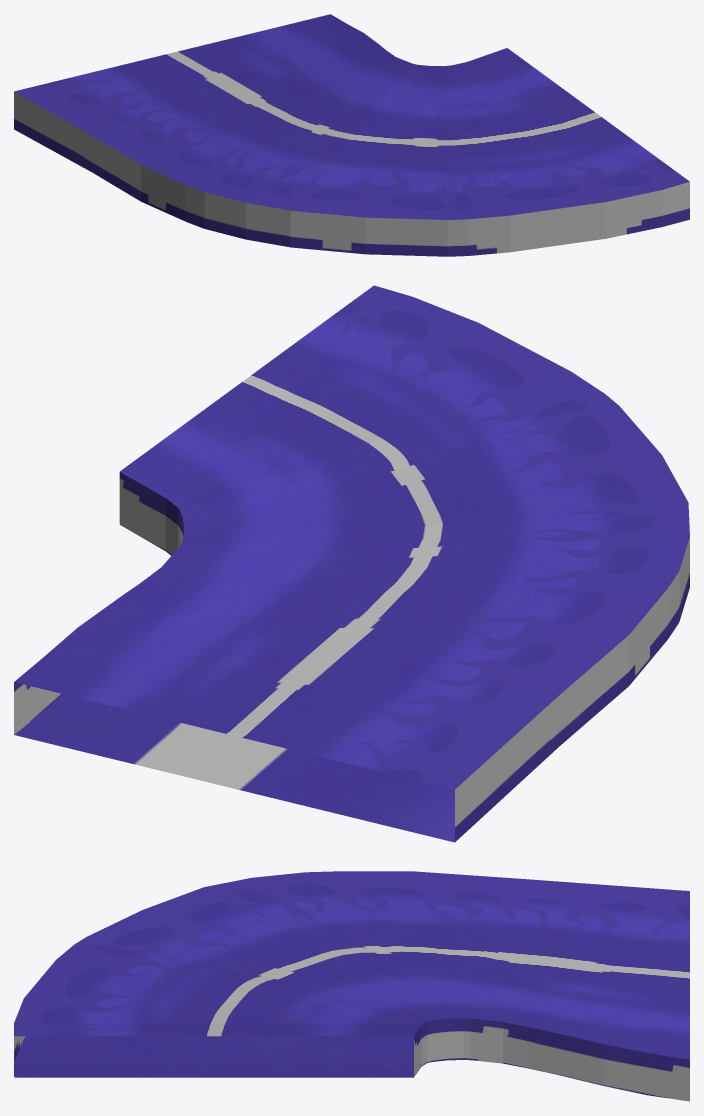
The model's file is PV_TRampCurve.fbx.
3 renders of one model, top to bottom at view 1: azimuth 30°, elevation 25°; view 2: azimuth 150°, elevation 25°; view 3: azimuth 270°, elevation 25°, orthographic. The views are drawn at different scales.
Visible parts, largest first — view 1: rampC; view 2: rampC; view 3: rampC.
Part boxes in pixels (left/top/right/bottom): rampC: left=14, top=14, right=689, bottom=256; rampC: left=14, top=285, right=689, bottom=842; rampC: left=14, top=871, right=689, bottom=1101.
Bounding box in the file's own units: 2758 × 606 × 4023.
